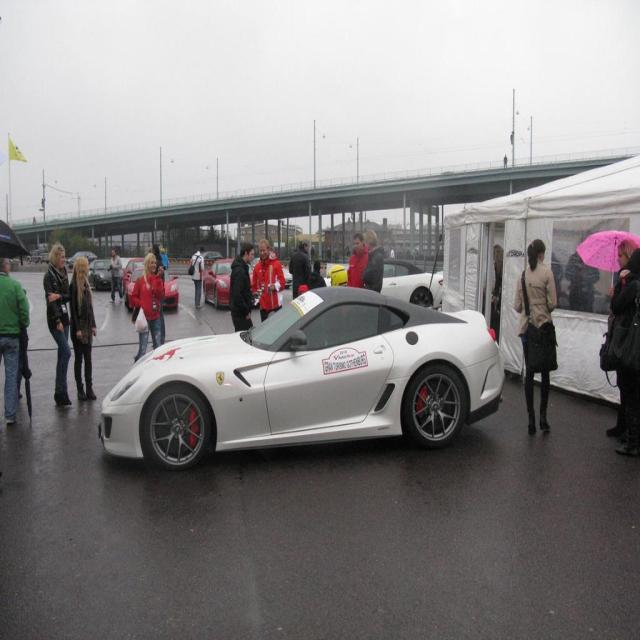car: (96, 278, 505, 473)
